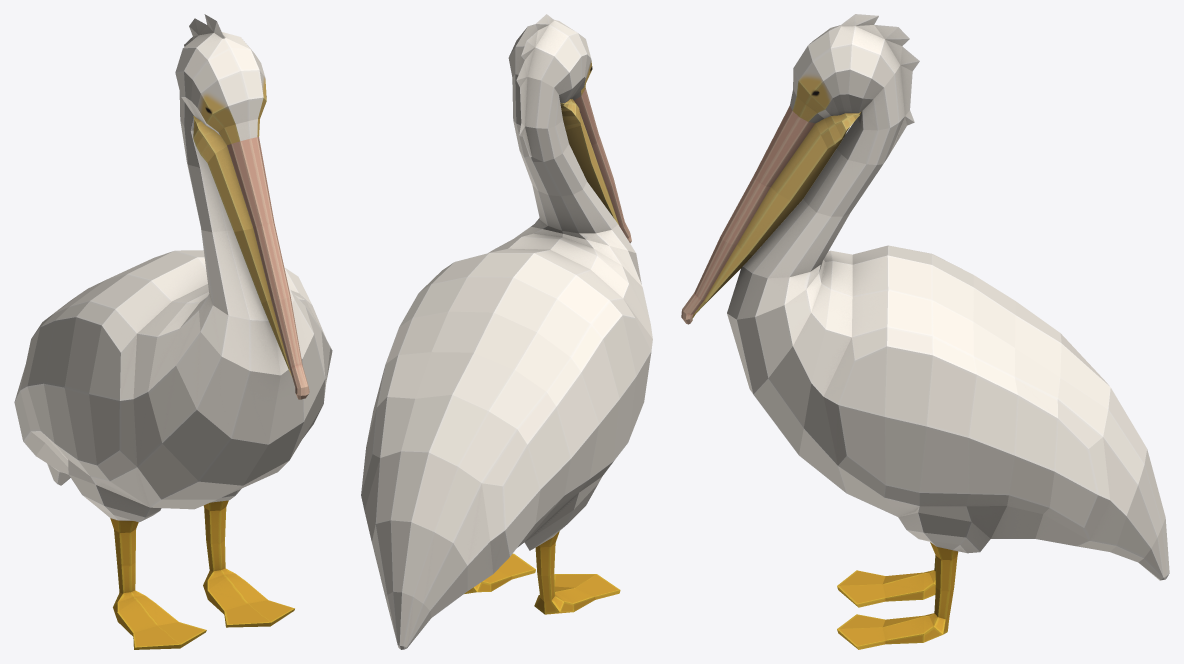
3 renders of one model, left to right at view 1: azimuth 30°, elevation 25°; view 2: azimuth 150°, elevation 25°; view 3: azimuth 270°, elevation 25°, orthographic. The views are drawn at different scales.
Visible parts, largest first — view 1: AmericanWhitePelican_mesh; view 2: AmericanWhitePelican_mesh; view 3: AmericanWhitePelican_mesh.
Part boxes in pixels (<box>): AmericanWhitePelican_mesh: <box>14,14,332,649</box>; AmericanWhitePelican_mesh: <box>361,14,652,649</box>; AmericanWhitePelican_mesh: <box>681,14,1169,649</box>.
Bounding box in the file's own units: 3.83 × 9.66 × 7.15.
1 material, 1 textured.
